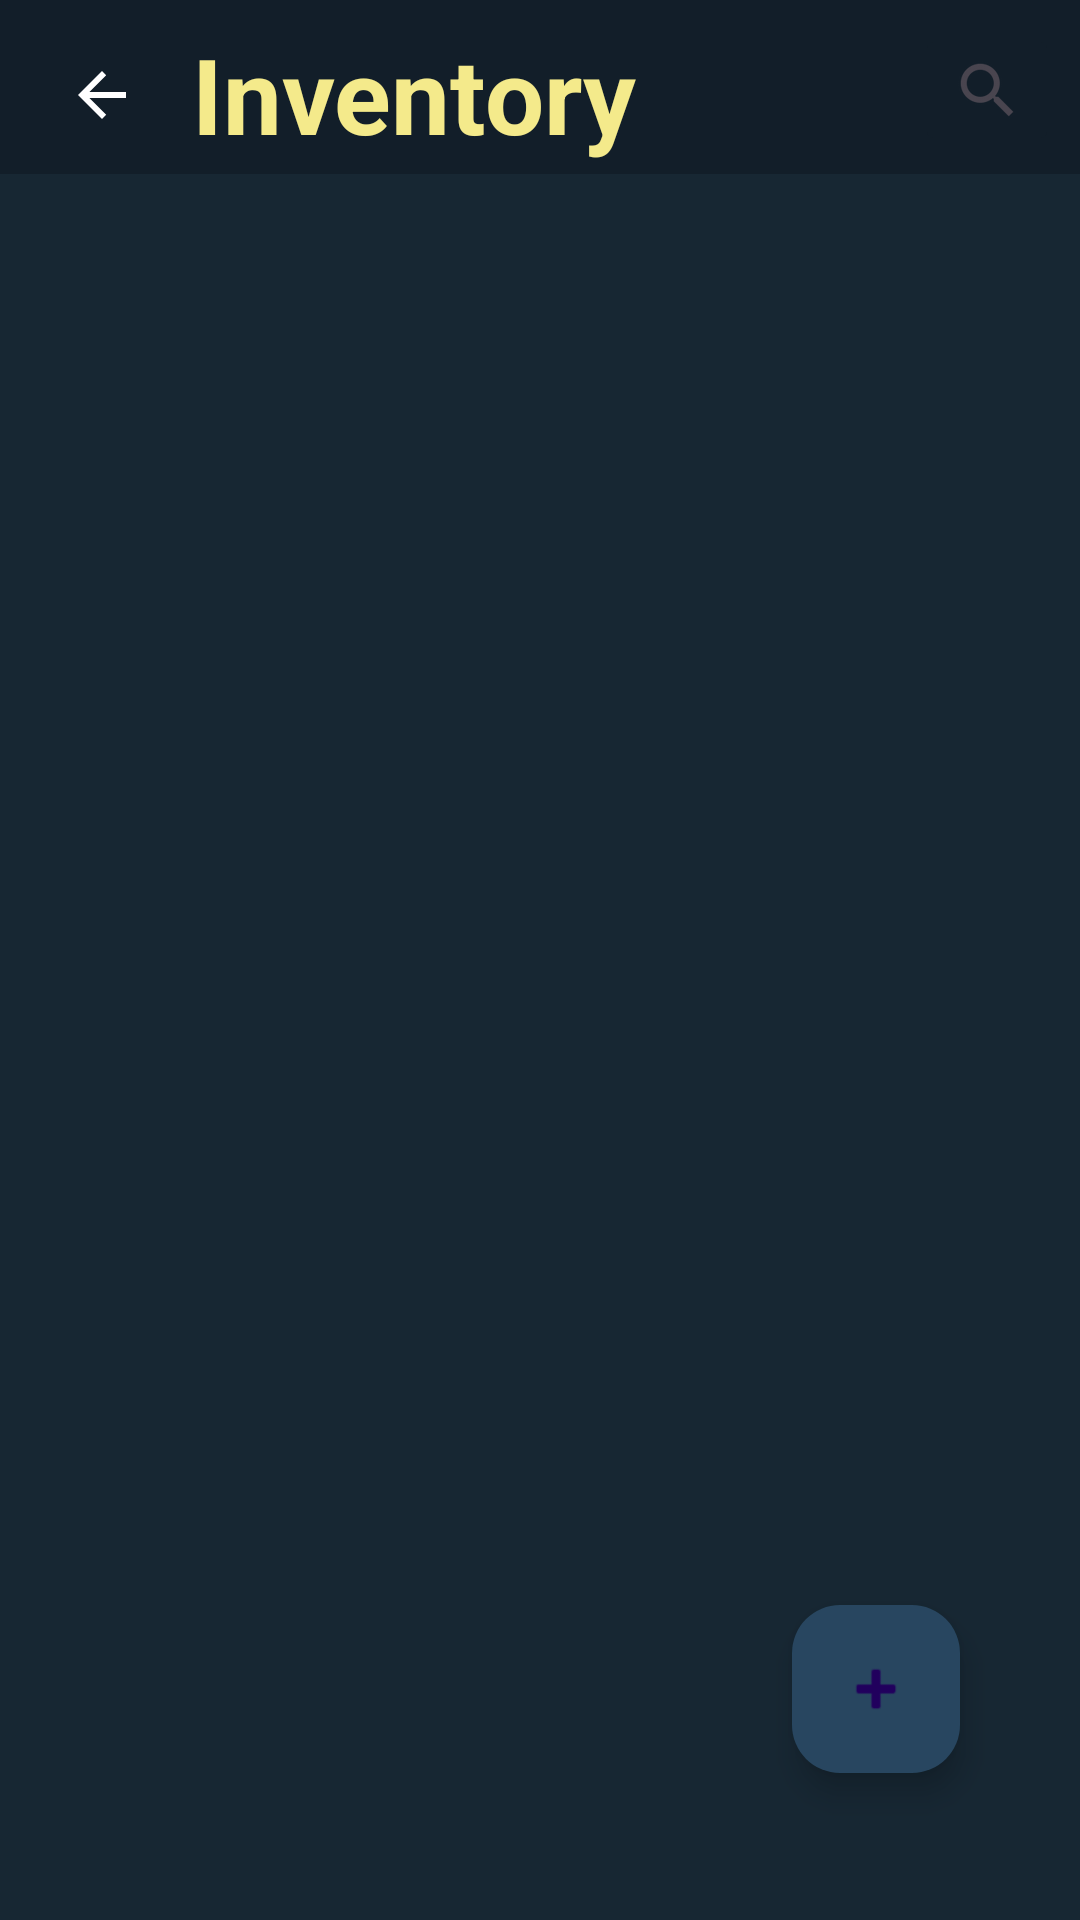

Icons on this 1080w x 1920h Android screen, each with its box as (x1,y1,x2,y2):
add: (792,1605,960,1773)
